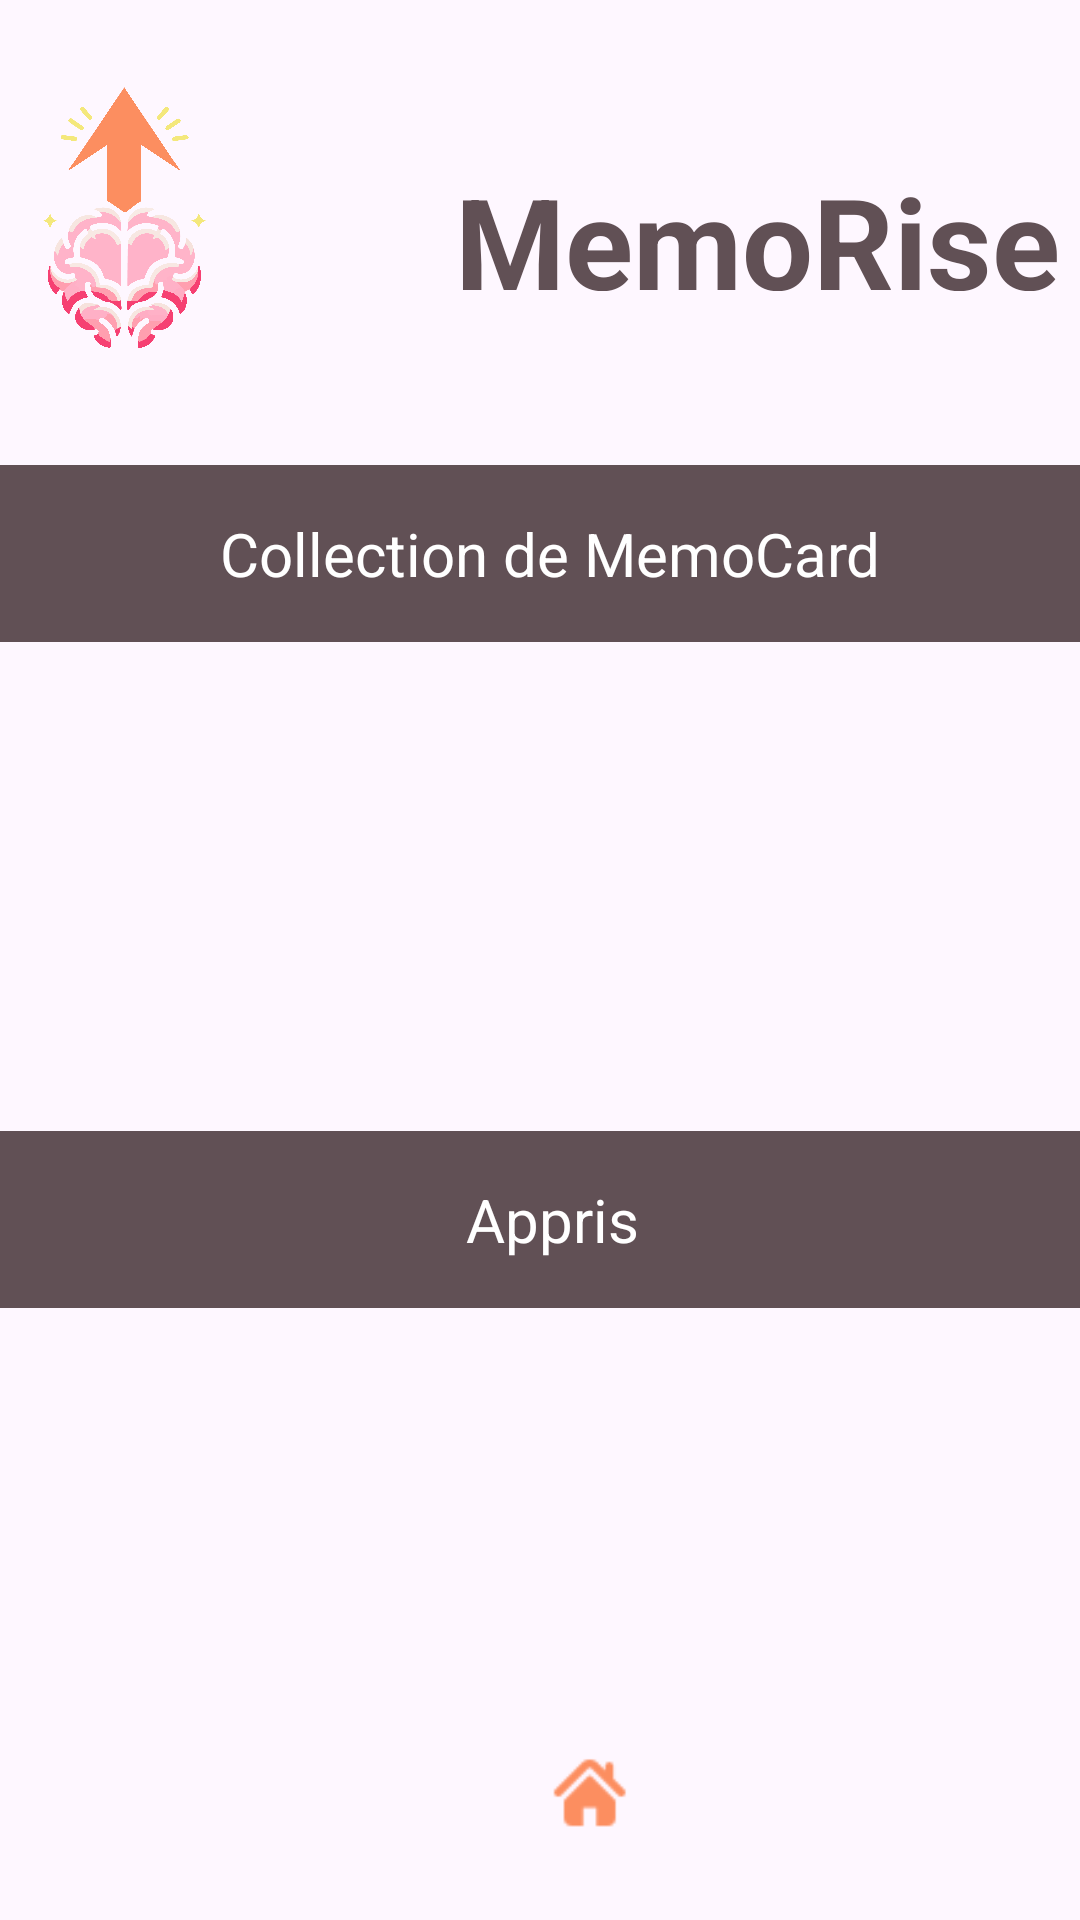

Locate icon controls on the screen. Image size 1080*1920, boxes as (x1, y1, x2, y2).
home: (553, 1759, 626, 1827)
memorise: (44, 87, 206, 348)
